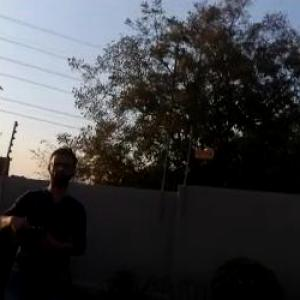follow: (0, 140, 91, 299)
